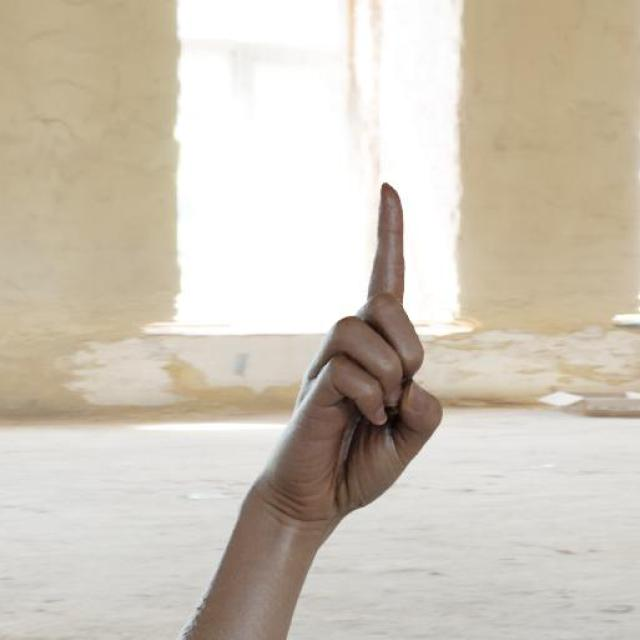D: (238, 180, 448, 538)
